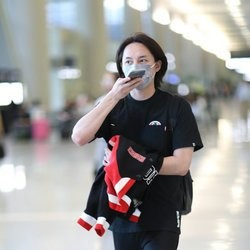mask: (120, 57, 155, 89)
